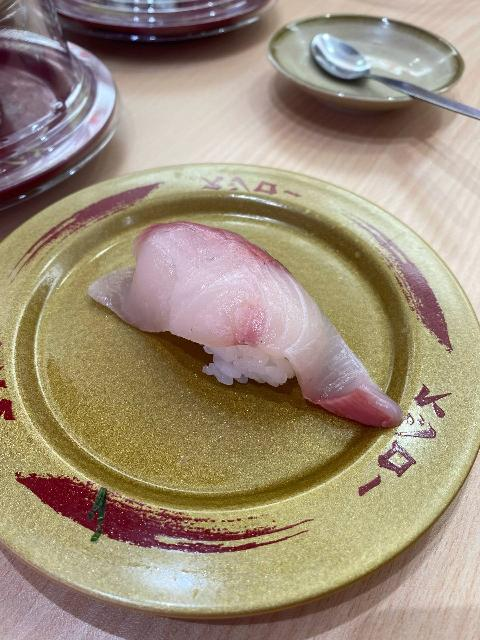jangold: (0, 211, 465, 624)
janred: (0, 8, 138, 168), (48, 0, 308, 56)
